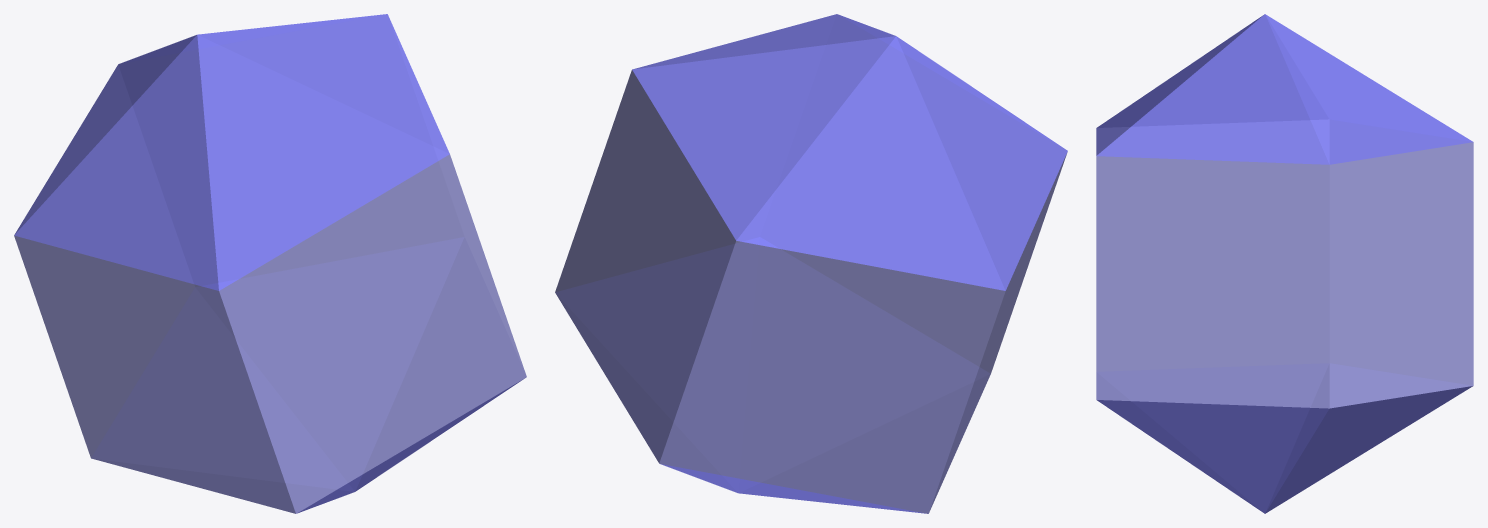
The model's file is j16_elongated_pentagonal_dipyramid.obj.
3 views of the same model, side by side, from view 1: azimuth 30°, elevation 25°; view 2: azimuth 150°, elevation 25°; view 3: azimuth 270°, elevation 25° (orthographic). The views are drawn at different scales.
Bounding box in the file's own units: 1.86 × 1.96 × 1.55.
